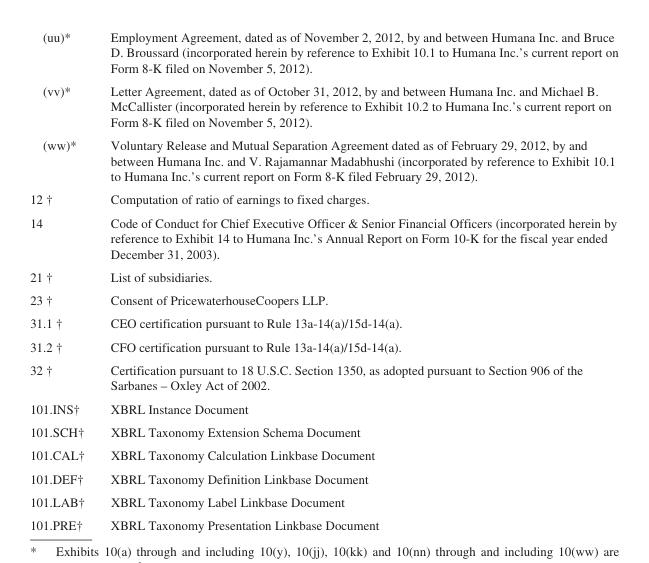table: (29, 29, 617, 531)
table column: (96, 29, 617, 531), (29, 29, 96, 531)
table row: (29, 78, 617, 133), (29, 133, 617, 187), (29, 210, 617, 264), (29, 29, 617, 78), (29, 357, 617, 396), (29, 264, 617, 288), (29, 419, 617, 443), (29, 187, 617, 210), (29, 288, 617, 311), (29, 311, 617, 334), (29, 334, 617, 357), (29, 396, 617, 419), (29, 443, 617, 466), (29, 466, 617, 489), (29, 489, 617, 512), (29, 512, 617, 531)
